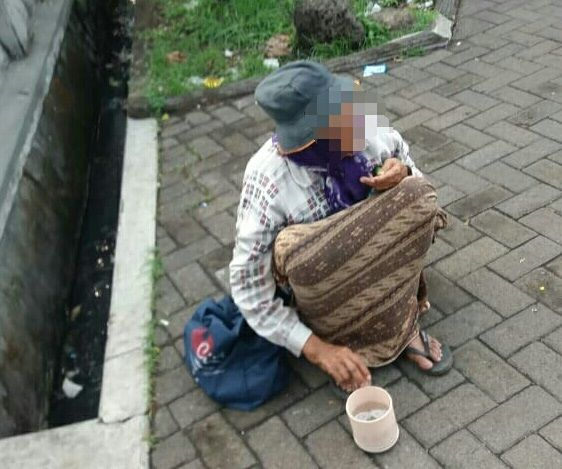gelandangan: (168, 53, 459, 449)
